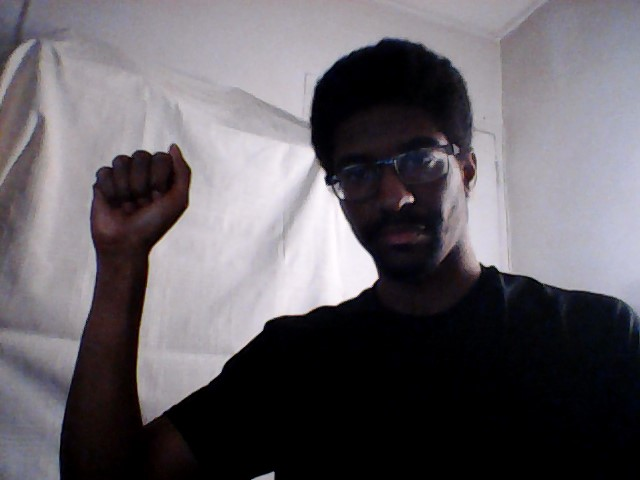a: (89, 141, 194, 250)
